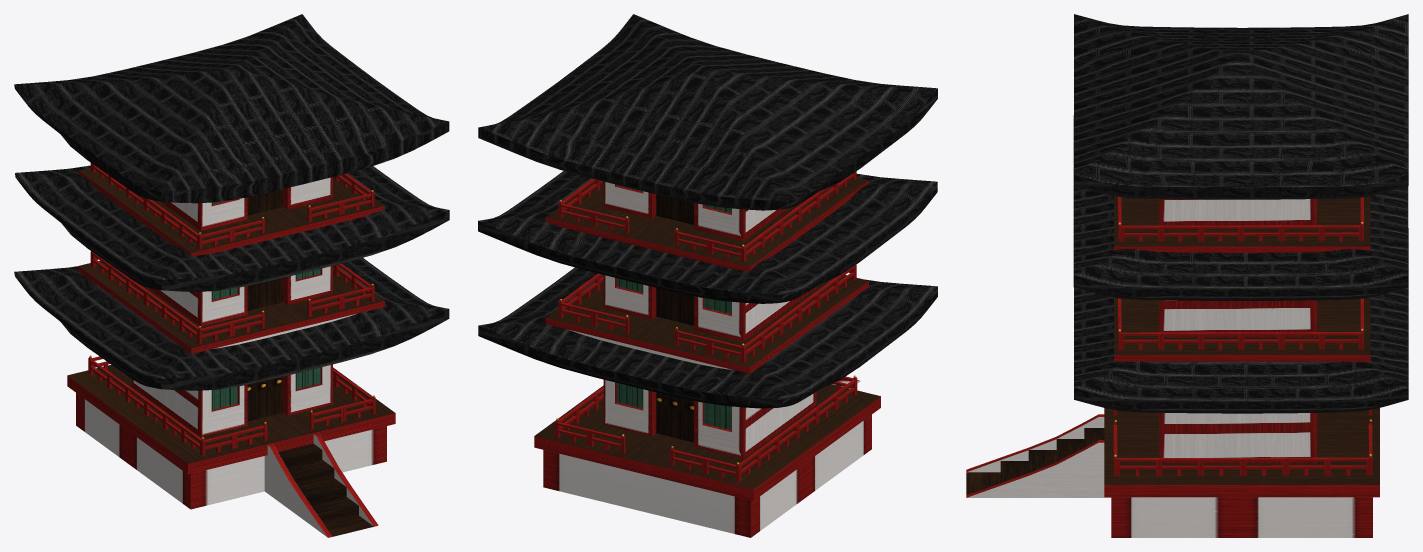
Rendered from PagodaModel.fbx.
3 views of the same model, side by side, from view 1: azimuth 30°, elevation 25°; view 2: azimuth 150°, elevation 25°; view 3: azimuth 270°, elevation 25° (orthographic). The views are drawn at different scales.
Parts seen in each view (by area): view 1: Top Roof, Roof 1, Roof 2, Pagoda Base, First Section, Second Base, Stairs, Third Base, First Section.001, First Section.002, Left Railing V2, Left Railing Floor 2 (+4 smaller); view 2: Top Roof, Pagoda Base, Roof 1, Roof 2, Second Base, First Section, Third Base, First Section.001, First Section.002, Left Railing V2, Left Railing Floor 2, Left Railing Floor 2.001 (+3 smaller); view 3: Top Roof, Pagoda Base, Roof 1, Roof 2, Second Base, Stairs, First Section, Third Base, First Section.001, First Section.002, Right Railing V2, Right Railing Floor 2 (+1 smaller).
Part boxes in pixels (left/top/right/bottom): Top Roof: left=14, top=14, right=449, bottom=203; Roof 1: left=14, top=258, right=449, bottom=390; Roof 2: left=15, top=165, right=449, bottom=291; Pagoda Base: left=67, top=364, right=395, bottom=509; First Section: left=131, top=364, right=332, bottom=436; Second Base: left=78, top=260, right=384, bottom=353; Stairs: left=264, top=433, right=378, bottom=537; Third Base: left=78, top=168, right=384, bottom=256; First Section.001: left=148, top=266, right=332, bottom=326; First Section.002: left=161, top=177, right=332, bottom=230; Left Railing V2: left=88, top=355, right=267, bottom=456; Left Railing Floor 2: left=90, top=251, right=264, bottom=344; Top Roof: left=478, top=14, right=937, bottom=210; Pagoda Base: left=534, top=384, right=880, bottom=537; Roof 1: left=478, top=267, right=937, bottom=408; Roof 2: left=478, top=171, right=937, bottom=303; Second Base: left=545, top=275, right=868, bottom=373; First Section: left=603, top=379, right=816, bottom=458; Third Base: left=545, top=177, right=868, bottom=271; First Section.001: left=603, top=275, right=816, bottom=341; First Section.002: left=603, top=181, right=788, bottom=241; Left Railing V2: left=670, top=375, right=857, bottom=482; Left Railing Floor 2: left=674, top=264, right=856, bottom=362; Left Railing Floor 2.001: left=674, top=171, right=856, bottom=262; Top Roof: left=1074, top=14, right=1408, bottom=199; Pagoda Base: left=1104, top=408, right=1379, bottom=537; Roof 1: left=1074, top=228, right=1408, bottom=413; Roof 2: left=1073, top=115, right=1408, bottom=300; Second Base: left=1114, top=297, right=1370, bottom=361; Stairs: left=966, top=414, right=1111, bottom=497; First Section: left=1159, top=412, right=1317, bottom=463; Third Base: left=1114, top=196, right=1370, bottom=252; First Section.001: left=1159, top=300, right=1317, bottom=337; First Section.002: left=1159, top=199, right=1317, bottom=225; Right Railing V2: left=1113, top=419, right=1372, bottom=476; Right Railing Floor 2: left=1118, top=298, right=1363, bottom=350.
Size of the model in its own units: 5963 by 7516 by 6940.
